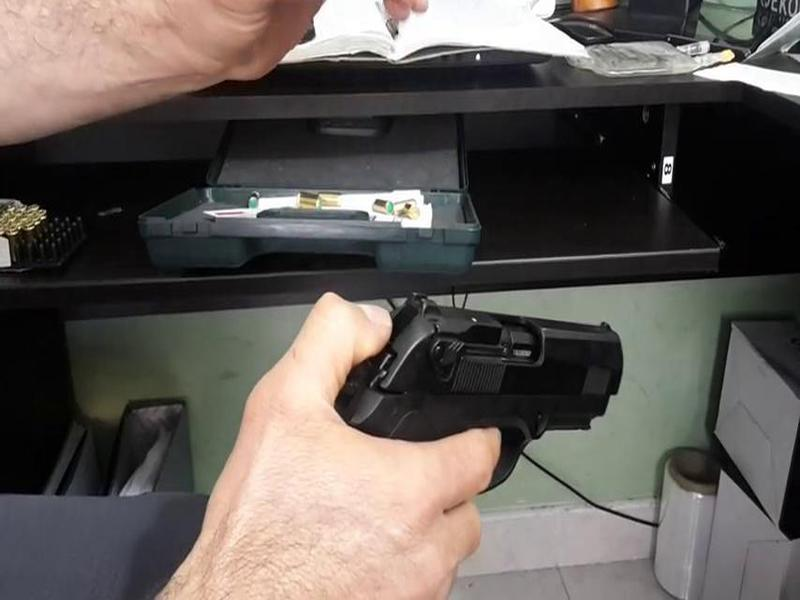Pistola: (335, 278, 638, 514)
